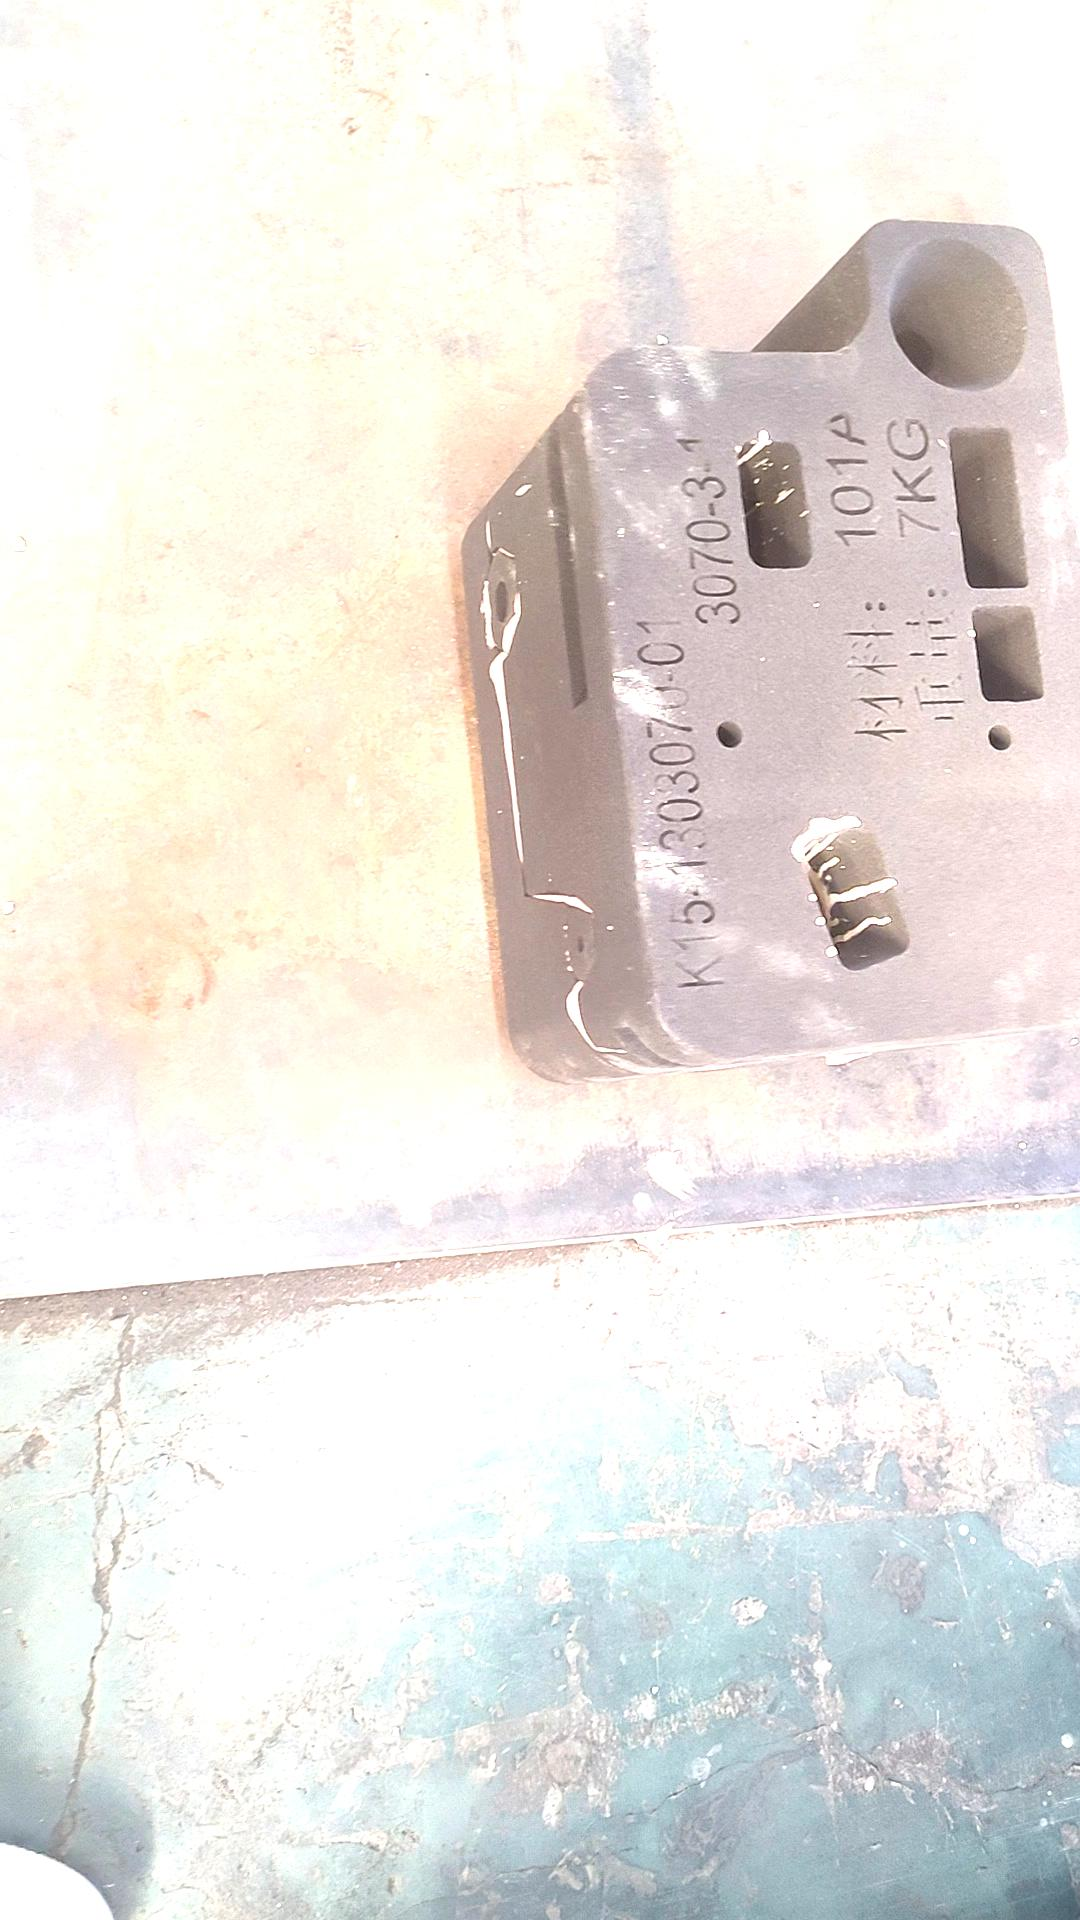pouring hole: (890, 236, 1030, 393)
